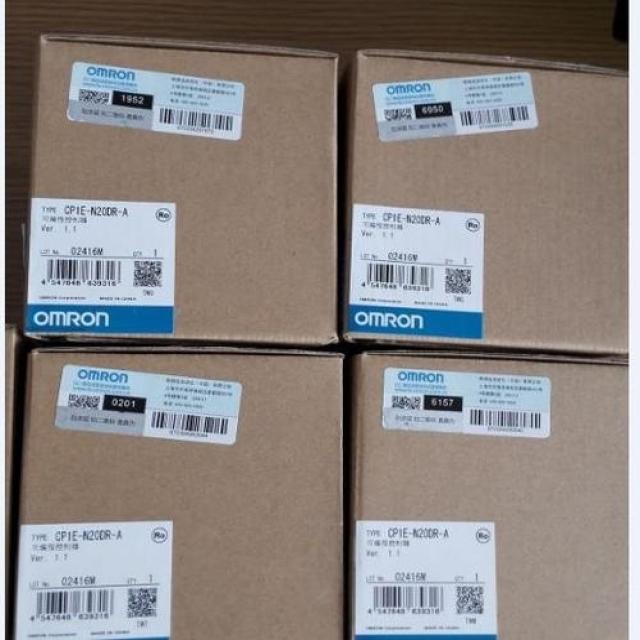box: (25, 32, 340, 348), (11, 350, 345, 639), (338, 52, 628, 357), (349, 353, 629, 639), (3, 328, 33, 638)
